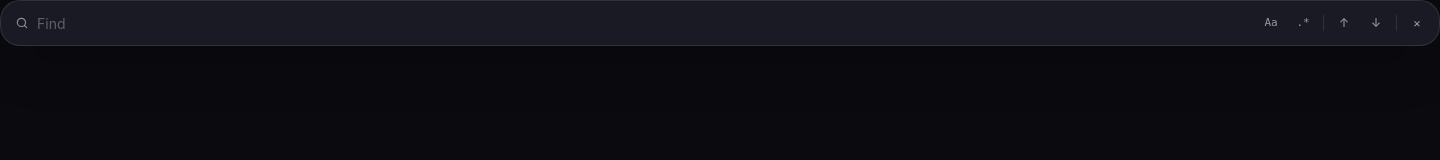
FindBar › shows 0/0 when query is set but total is 0
Type "x" into the field with placeholder "Find". click: coordinates (637, 23)
box: [33,9,1241,37]
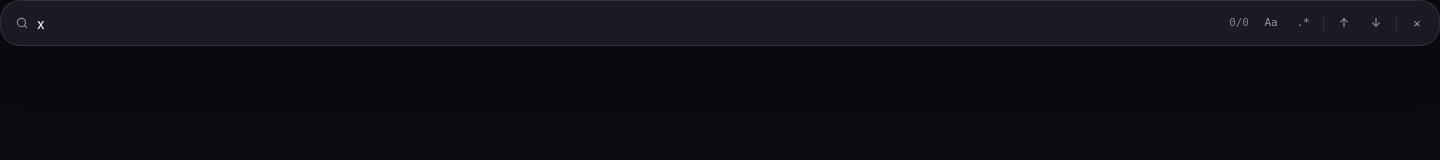
Result: the text "0/0" is shown at [1229,16,1249,29]
